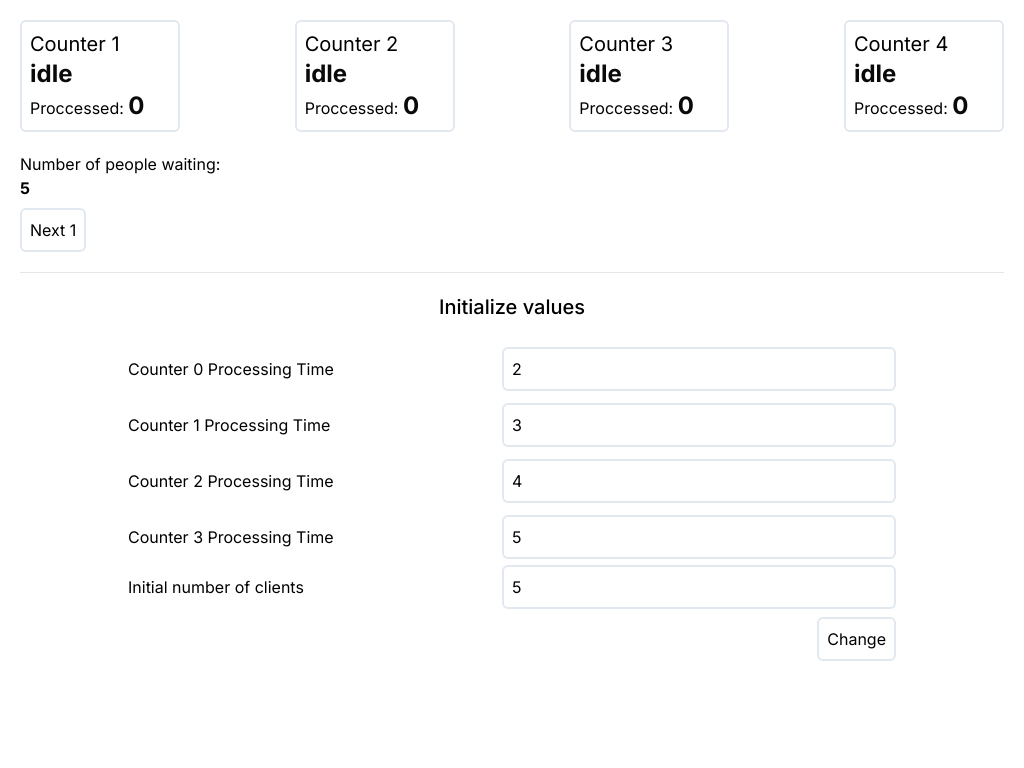
Test: Home › updates the processing status of each counter upon first click of next button
Click the button with test id "next-button": coordinates (53, 230) [20,208,86,252]
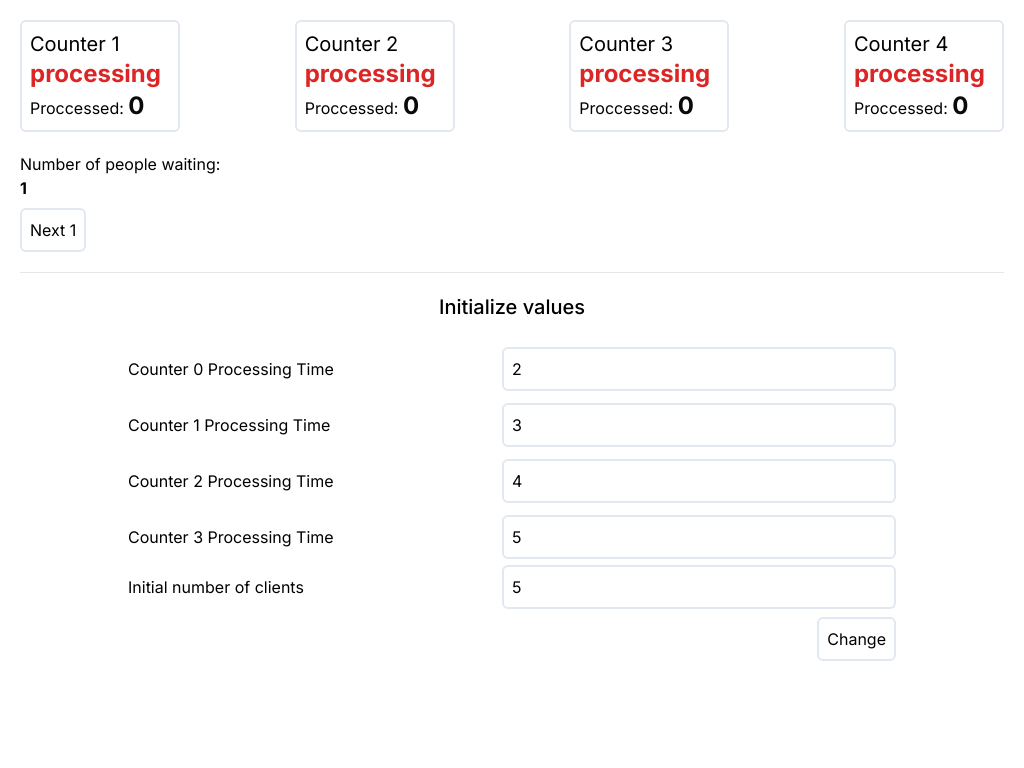
Now the text with test id "processing-counter-0" reads "processing", box [30,59,161,88]
Now the text with test id "processing-counter-1" reads "processing", box [305,59,436,88]
Now the text with test id "processing-counter-2" reads "processing", box [579,59,710,88]
